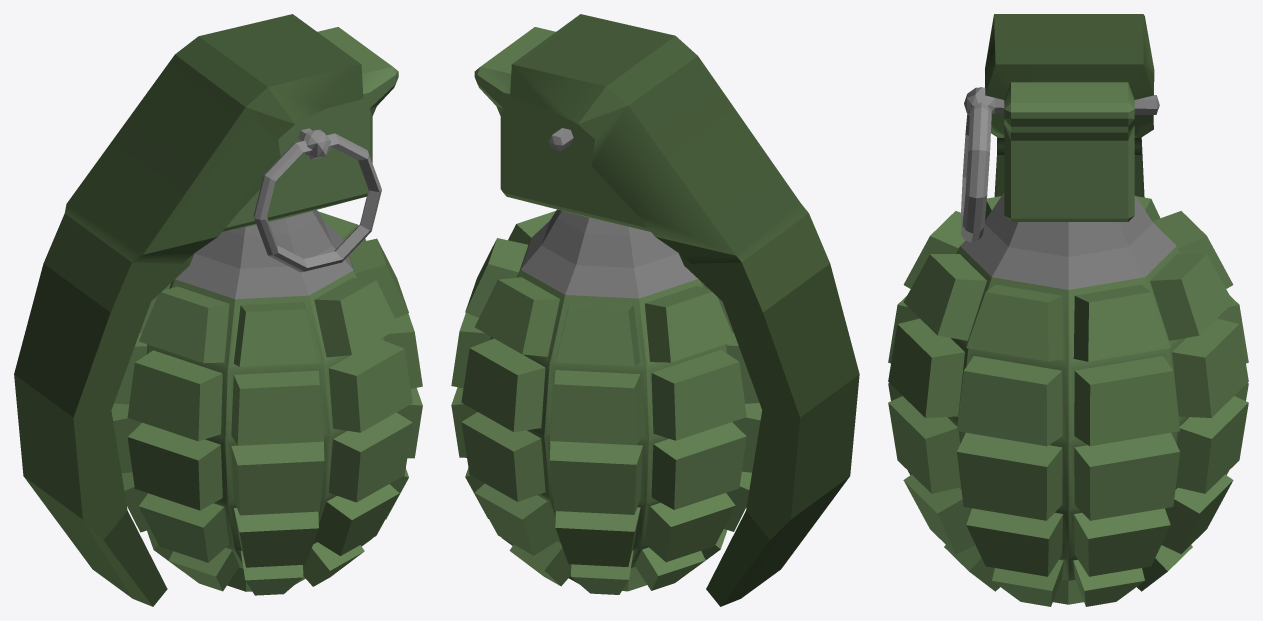
Rendered from grenade.fbx.
3 views of the same model, side by side, from view 1: azimuth 30°, elevation 25°; view 2: azimuth 150°, elevation 25°; view 3: azimuth 270°, elevation 25° (orthographic). The views are drawn at different scales.
Parts seen in each view (by area): view 1: polySurface16; view 2: polySurface16; view 3: polySurface16.
Boxes of the visible parts, x1,y1,x2,y2 form: polySurface16: (14, 14, 422, 606); polySurface16: (451, 14, 859, 606); polySurface16: (888, 14, 1248, 606).
Size of the model in its own units: 6.69 by 9.24 by 5.46.
